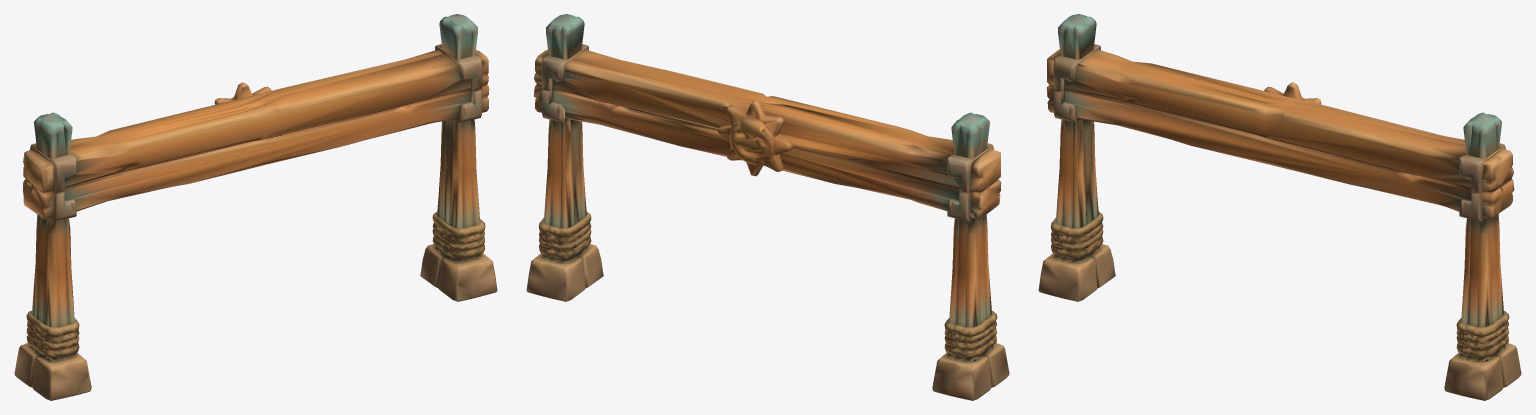
The model's file is start_gantry.glb.
The picture shows the model from 3 angles, left to right: view 1: azimuth 30°, elevation 25°; view 2: azimuth 150°, elevation 25°; view 3: azimuth 330°, elevation 25°; orthographic projection.
Visible parts, largest first — view 1: tripo_node_c370242b-c7e7-4ce2-a581-042b2f4e713a; view 2: tripo_node_c370242b-c7e7-4ce2-a581-042b2f4e713a; view 3: tripo_node_c370242b-c7e7-4ce2-a581-042b2f4e713a.
Boxes of the visible parts, x1=… form: tripo_node_c370242b-c7e7-4ce2-a581-042b2f4e713a: x1=14, y1=14, x2=497, y2=400; tripo_node_c370242b-c7e7-4ce2-a581-042b2f4e713a: x1=526, y1=14, x2=1009, y2=400; tripo_node_c370242b-c7e7-4ce2-a581-042b2f4e713a: x1=1038, y1=14, x2=1521, y2=400.
Bounding box in the file's own units: 75.73 × 42.47 × 11.
1 material, 1 textured.
